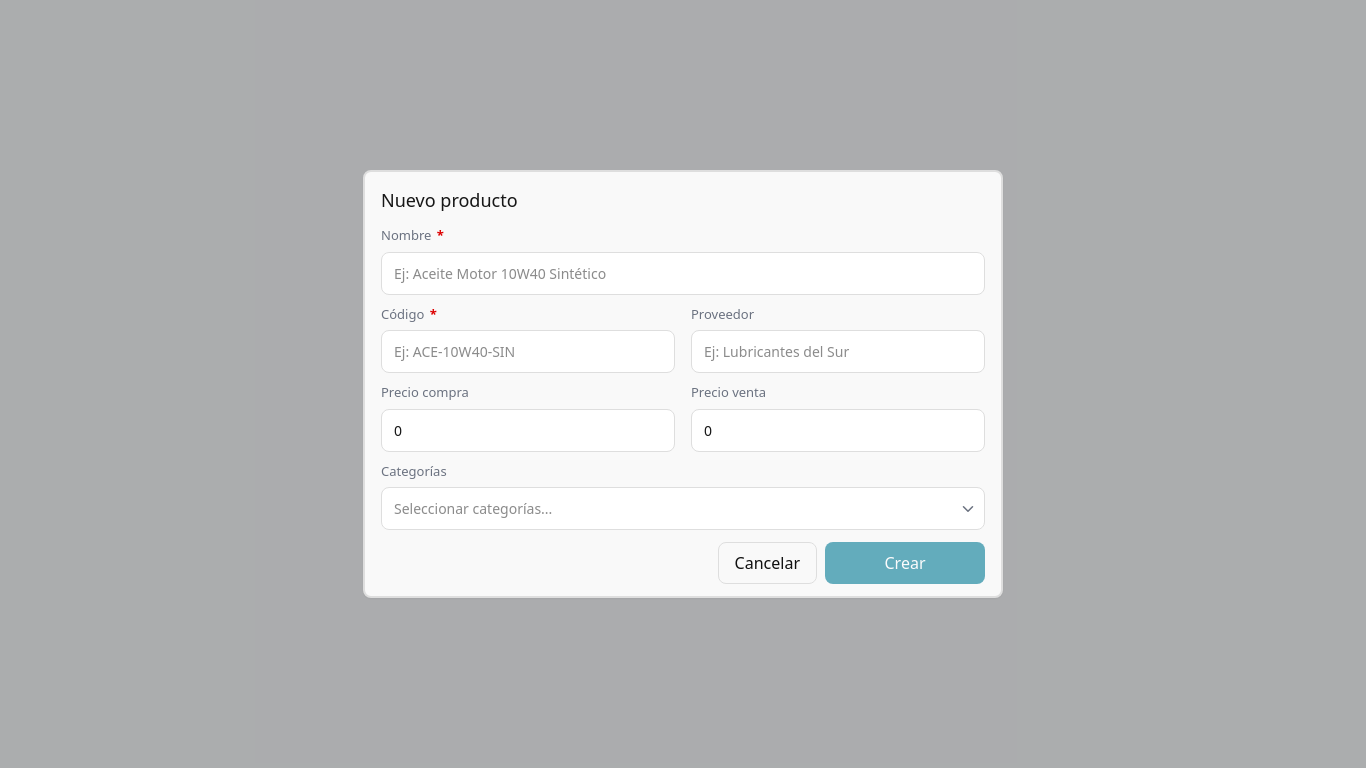
it: ProductoCreateModal › habilita el botón Crear si hay nombre y código
Check: the button with test id "modal-submit" is disabled, box [825,542,985,584]
Type "Aceite" into the field with placeholder "Ej: Aceite Motor 10W40 Sintético" at [683, 273], box [381,252,985,294]
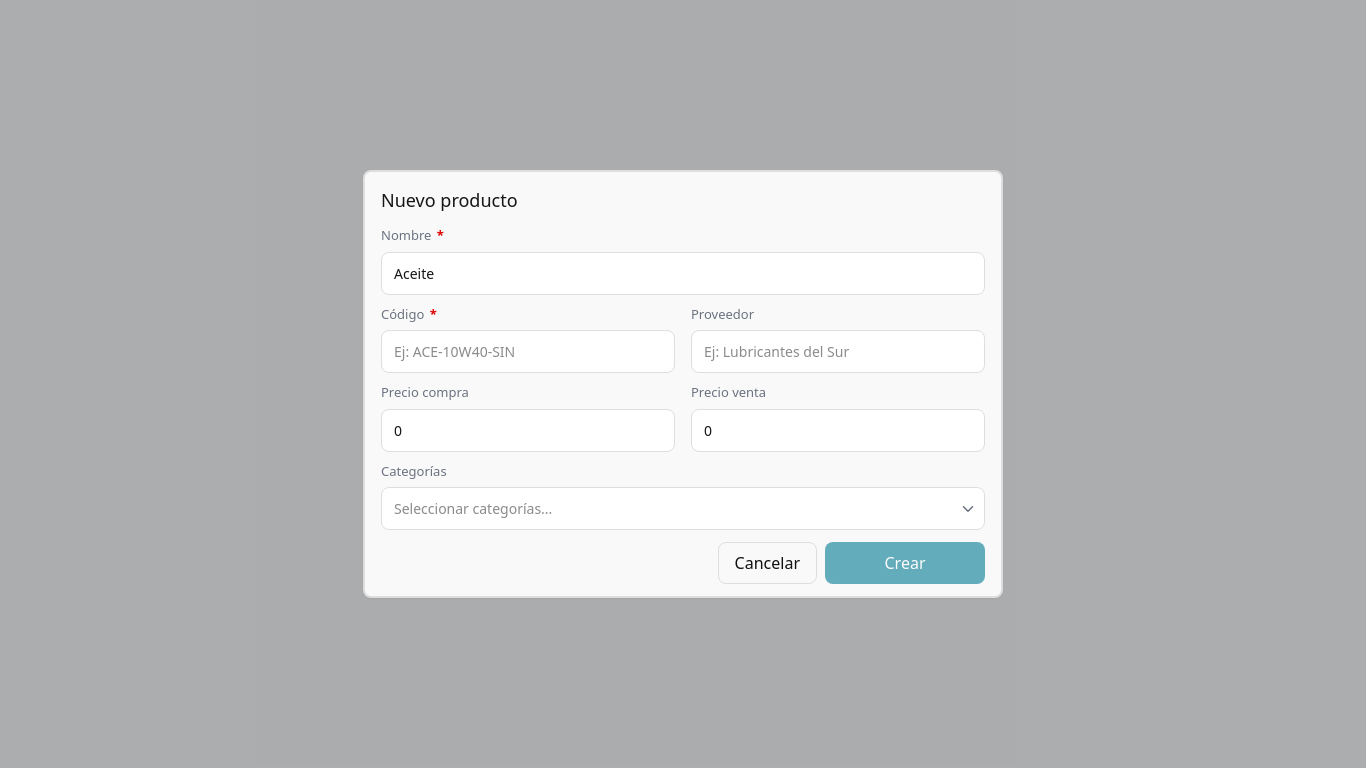
Type "ACE-1" into the field with placeholder "Ej: ACE-10W40-SIN" at [528, 352], box [381,330,675,373]
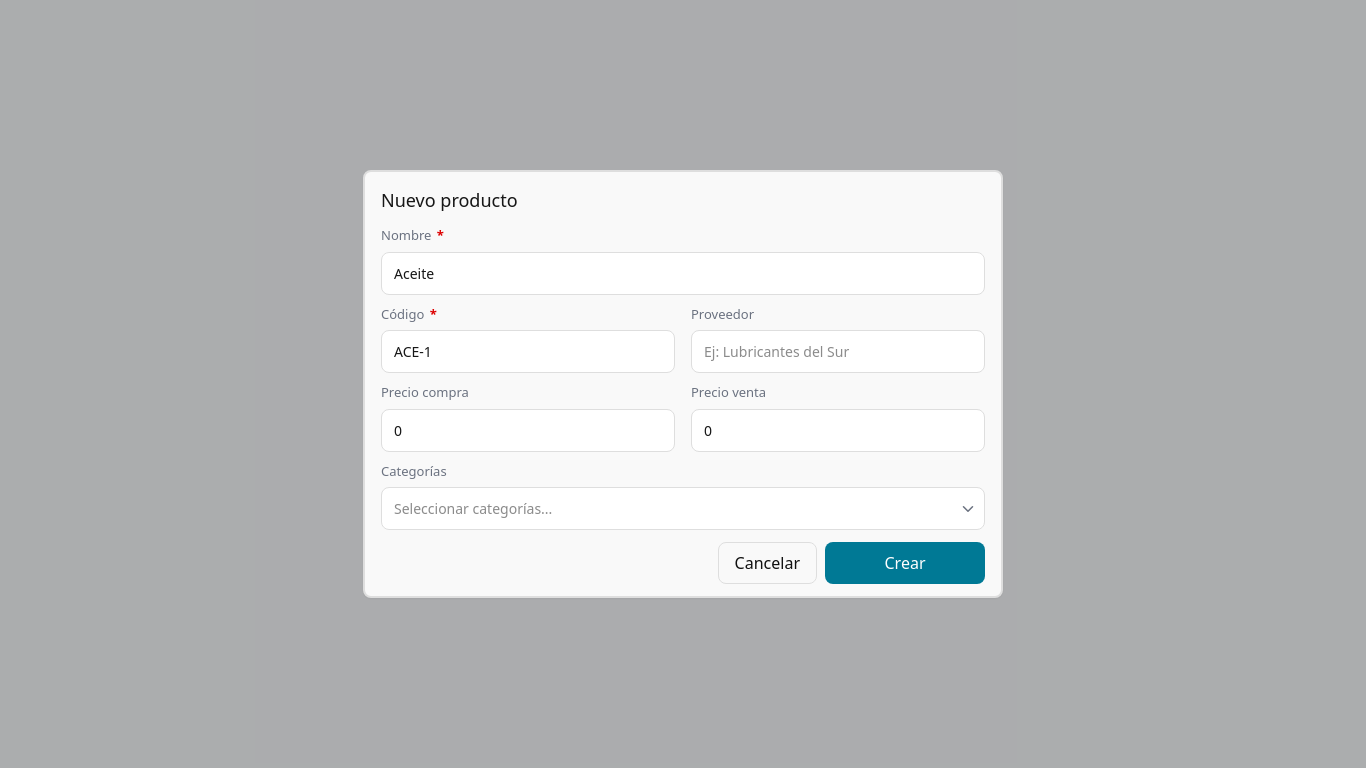
Check: the button with test id "modal-submit" is enabled, box [825,542,985,584]
